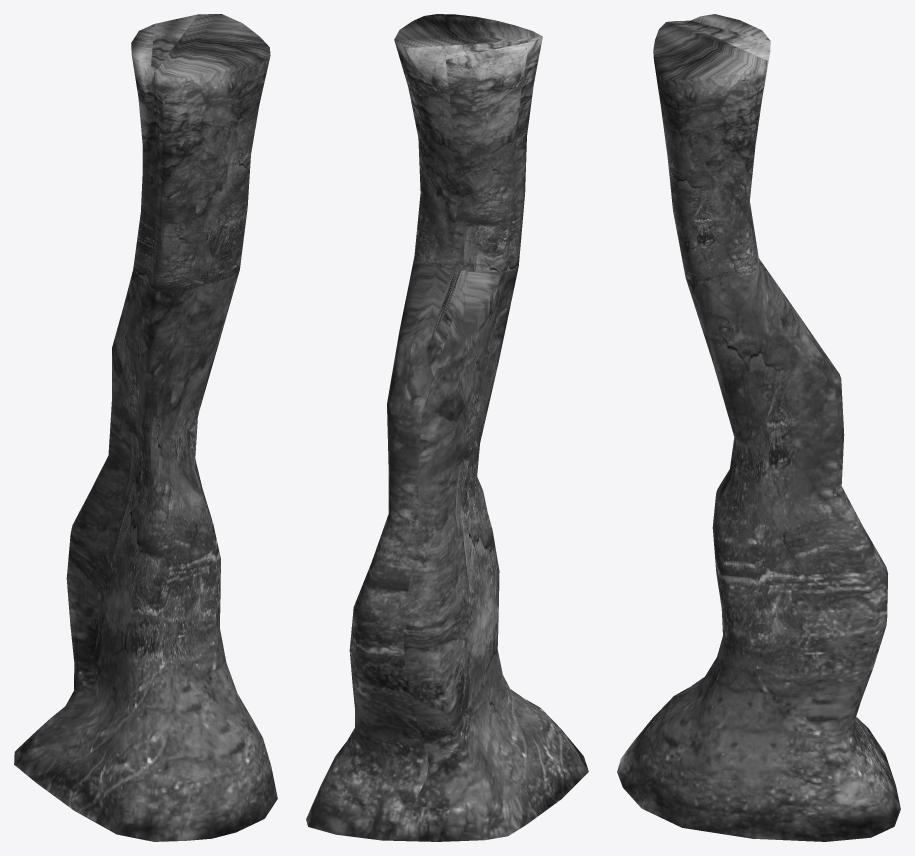
The model's file is rockformation1.obj.
3 renders of one model, left to right at view 1: azimuth 30°, elevation 25°; view 2: azimuth 150°, elevation 25°; view 3: azimuth 270°, elevation 25°, orthographic. The views are drawn at different scales.
Visible parts, largest first — view 1: rockformation1; view 2: rockformation1; view 3: rockformation1.
Boxes of the visible parts, box(x1,y1,x2,y2) form: rockformation1: box(14, 14, 277, 841); rockformation1: box(306, 14, 588, 841); rockformation1: box(617, 14, 900, 841).
Bounding box in the file's own units: 102 × 382 × 130.
1 material, 1 textured.
